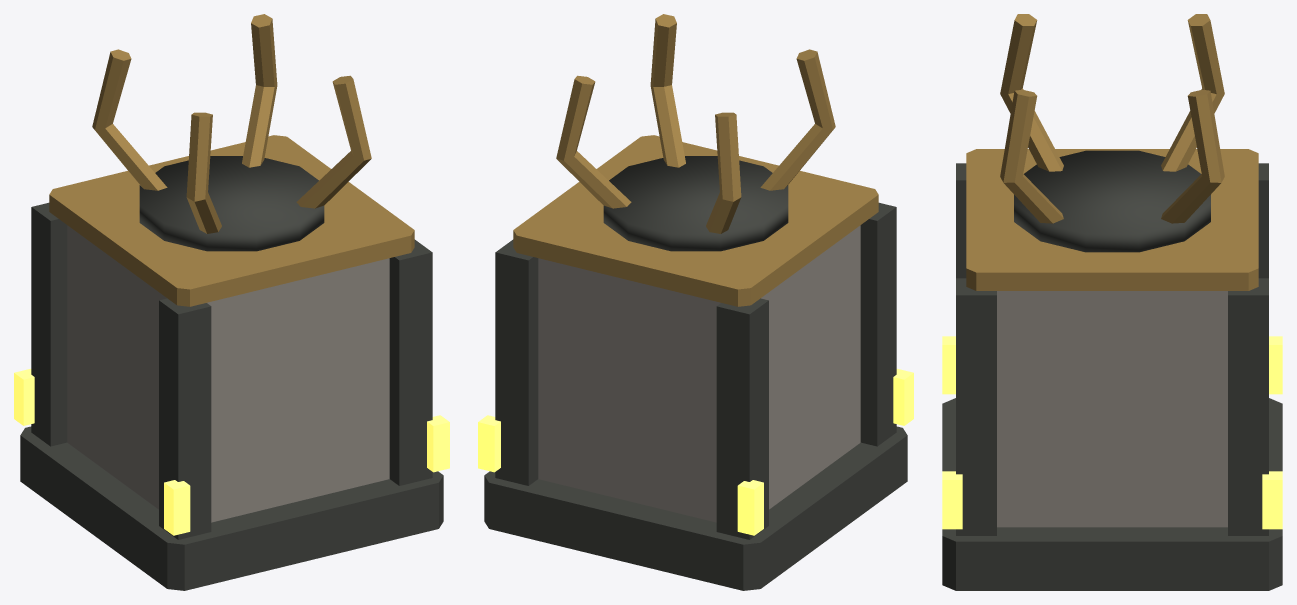
File: b3_orb_base.glb
3 renders of one model, left to right at view 1: azimuth 30°, elevation 25°; view 2: azimuth 150°, elevation 25°; view 3: azimuth 270°, elevation 25°, orthographic. The views are drawn at different scales.
Parts seen in each view (by area): view 1: b3_orb_base; view 2: b3_orb_base; view 3: b3_orb_base.
Part boxes in pixels (box(x1,y1,x2,y2)): b3_orb_base: box(14, 14, 449, 590); b3_orb_base: box(478, 14, 913, 590); b3_orb_base: box(942, 14, 1282, 590).
Bounding box in the file's own units: 1 × 1.51 × 1.
